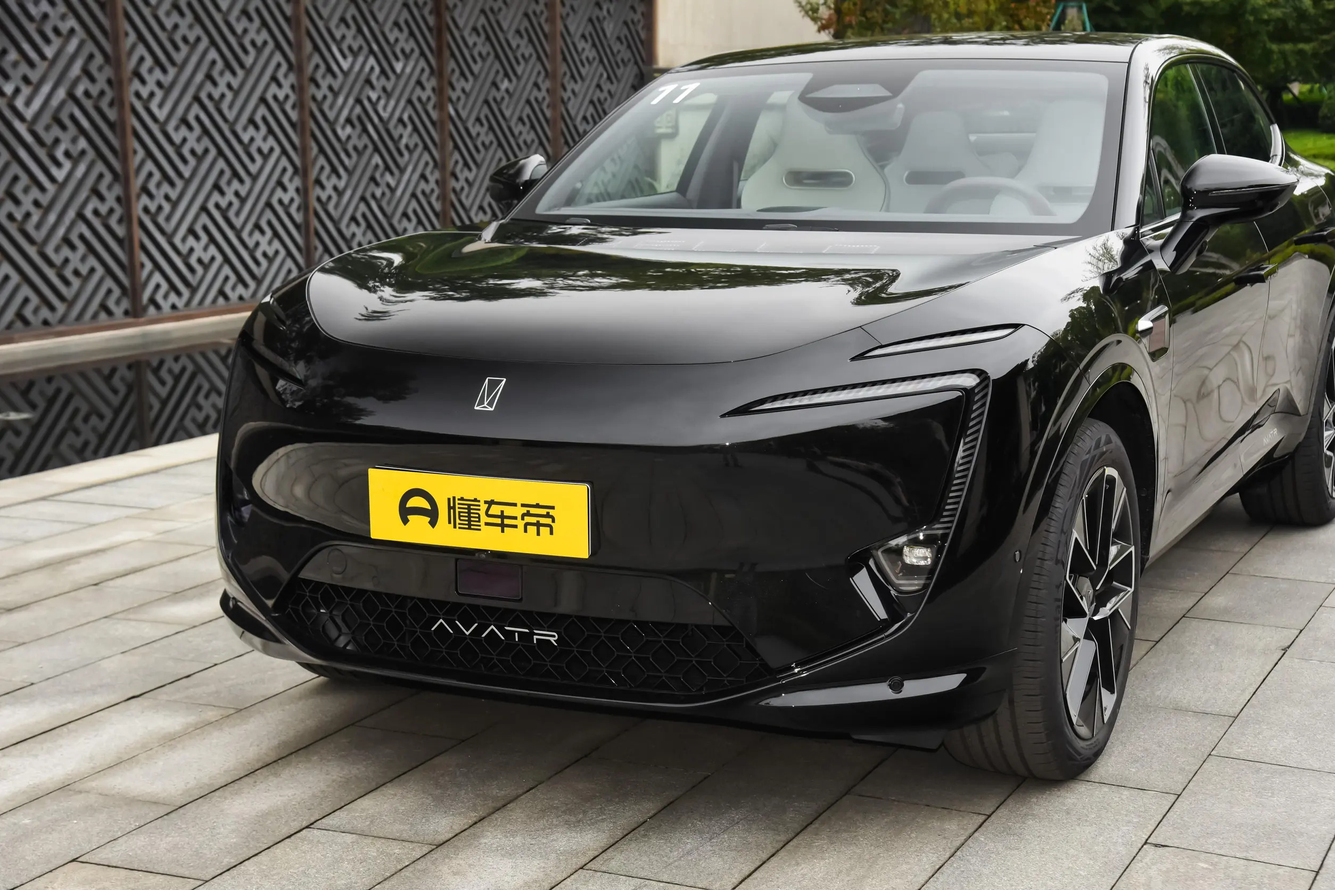AVATR: (475, 377, 506, 410)
